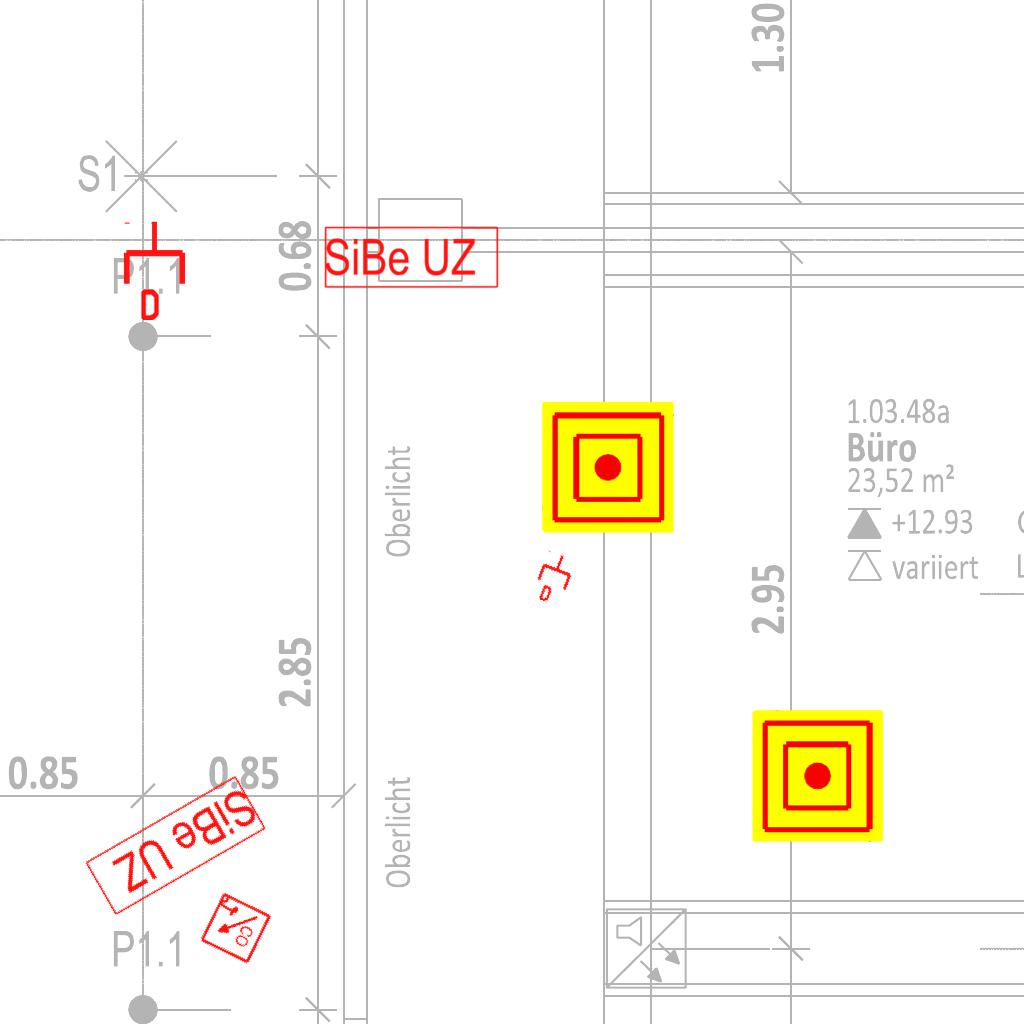Datenanschluss_einfach: (120, 220, 189, 320), (529, 548, 579, 608)
NAM-Nichtautomatischer_Melder: (752, 710, 884, 842), (542, 401, 674, 533)
ROA_Rauchmelder_optisch_mit_Signalgeber_(Sockelsirene): (197, 890, 273, 966)
Zentrale_Sicherheitsbeleuchtung: (81, 772, 269, 919), (323, 225, 501, 290)
